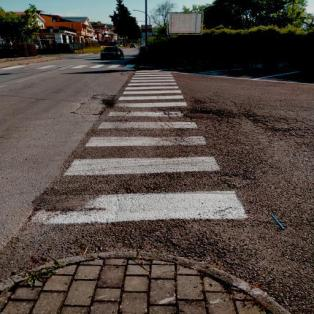Paso de Cebra: (56, 134, 224, 180), (110, 94, 190, 110), (128, 76, 178, 84), (71, 62, 106, 72)
